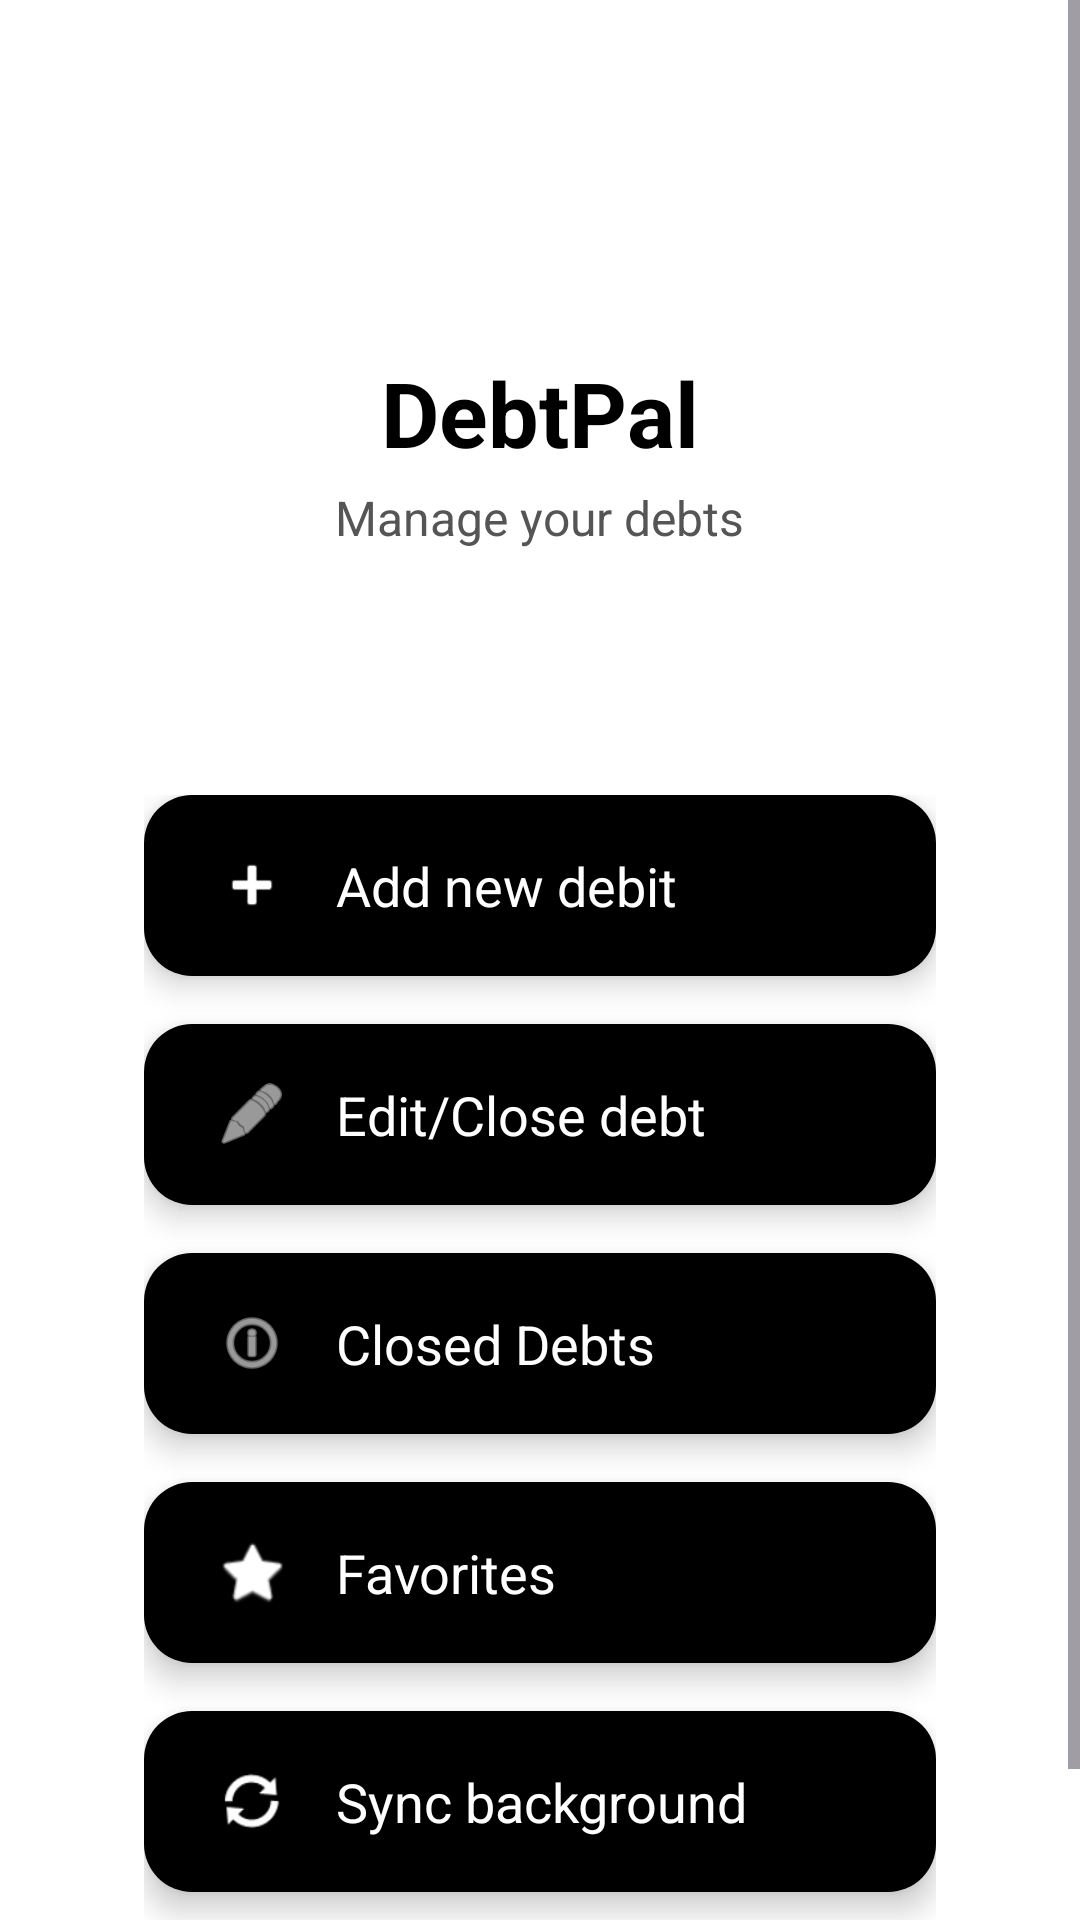

Icons on this 1080x1920 Android screen, each with its box as (x1, y1, x2, y2):
info details: (226, 1317, 278, 1369)
popup sync: (224, 1774, 279, 1828)
star on: (222, 1543, 283, 1602)
